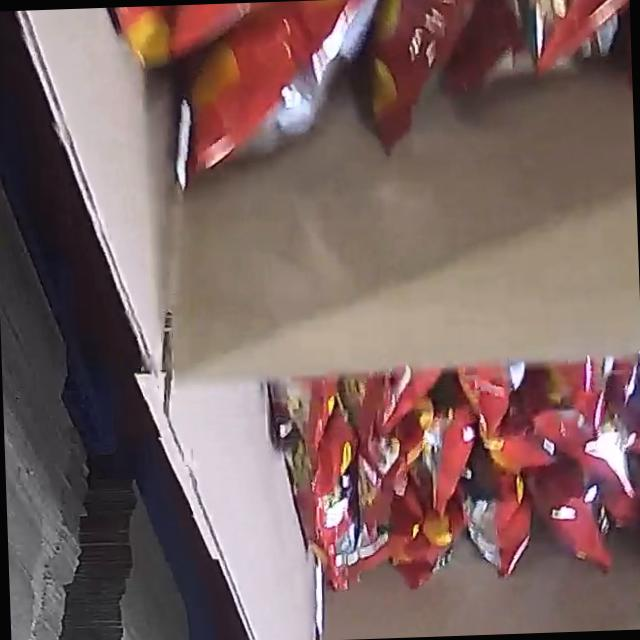masala: (104, 0, 635, 184), (269, 353, 640, 599)
